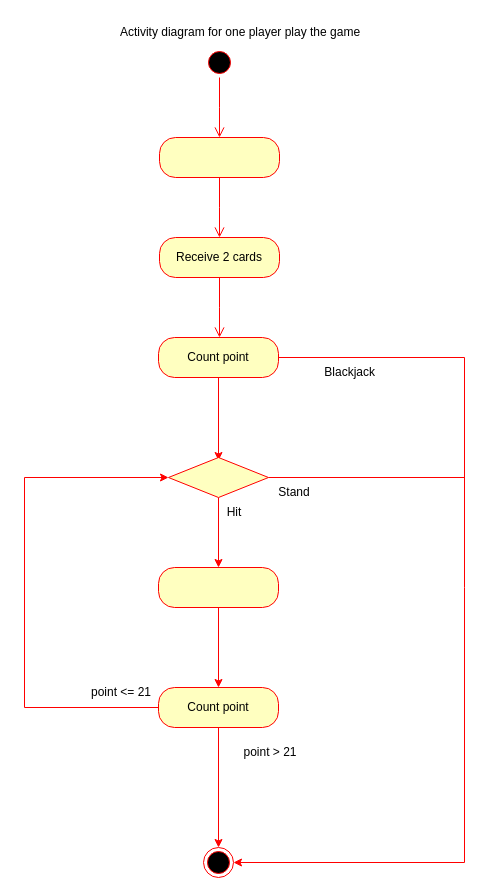
Some shapes in this 490 by 895 pixel diagram are drawn without their labels. The shapes that lost their labels are listed below. From the top down, each one's centre as x and y in pixels, then its label:
the point at 219,157: Place a bet
the point at 218,587: Take more card
